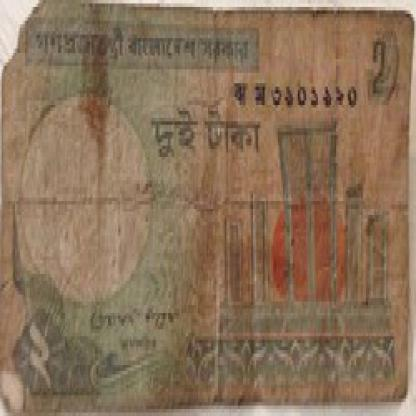two taka: (146, 104, 268, 166), (20, 319, 57, 399)
